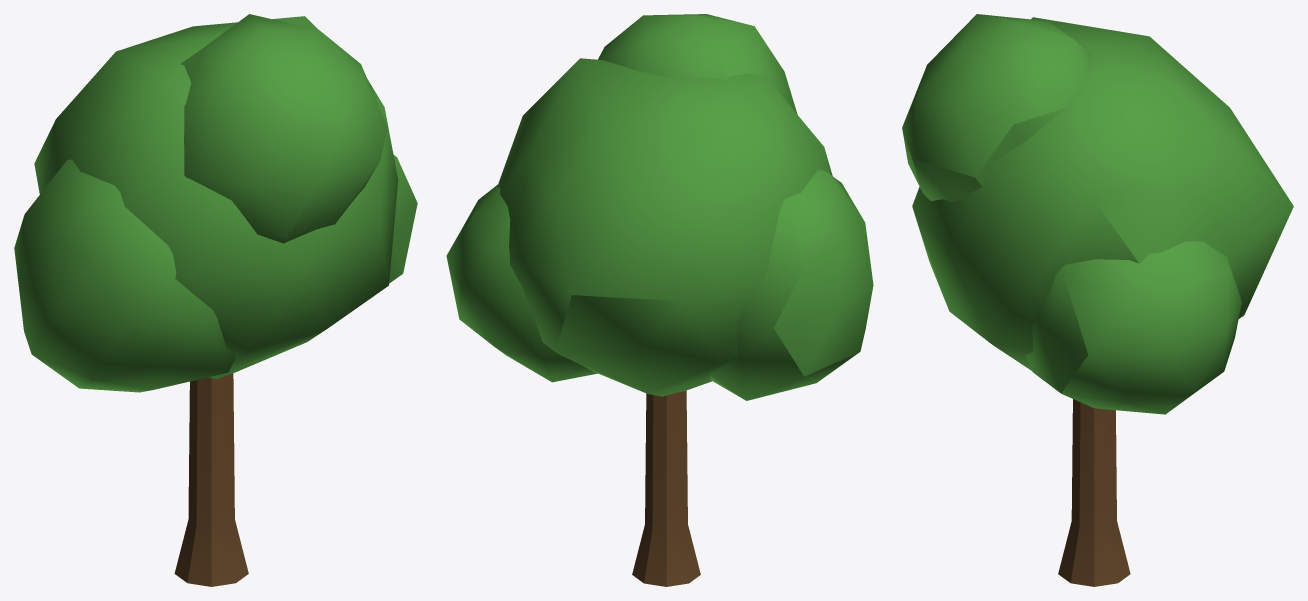
The model's file is tree.glb.
3 renders of one model, left to right at view 1: azimuth 30°, elevation 25°; view 2: azimuth 150°, elevation 25°; view 3: azimuth 270°, elevation 25°, orthographic. The views are drawn at different scales.
Visible parts, largest first — view 1: tree; view 2: tree; view 3: tree.
Boxes of the visible parts, box(x1,y1,x2,y2) form: tree: box(14, 14, 417, 586); tree: box(446, 14, 873, 586); tree: box(902, 14, 1293, 586).
Size of the model in its own units: 3.89 by 5.31 by 3.4.
